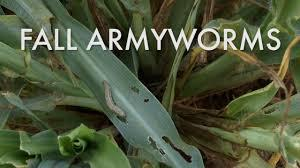fallarmy_worm: (98, 79, 126, 123)
